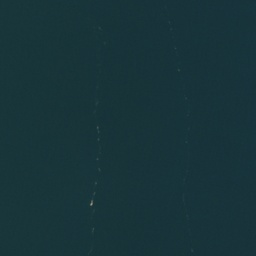Marine Debris: (89, 180, 99, 208)
